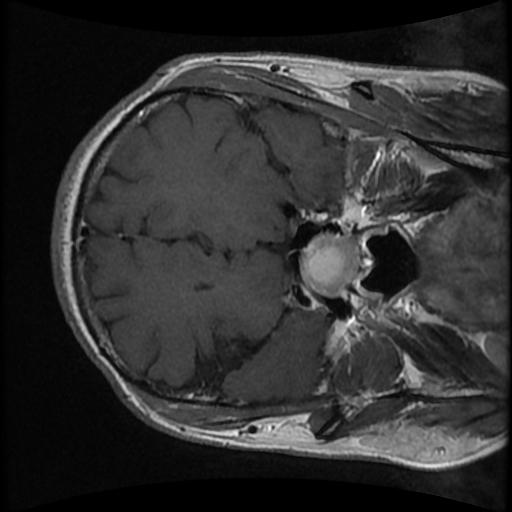pituitary tumour: (297, 231, 360, 299)
